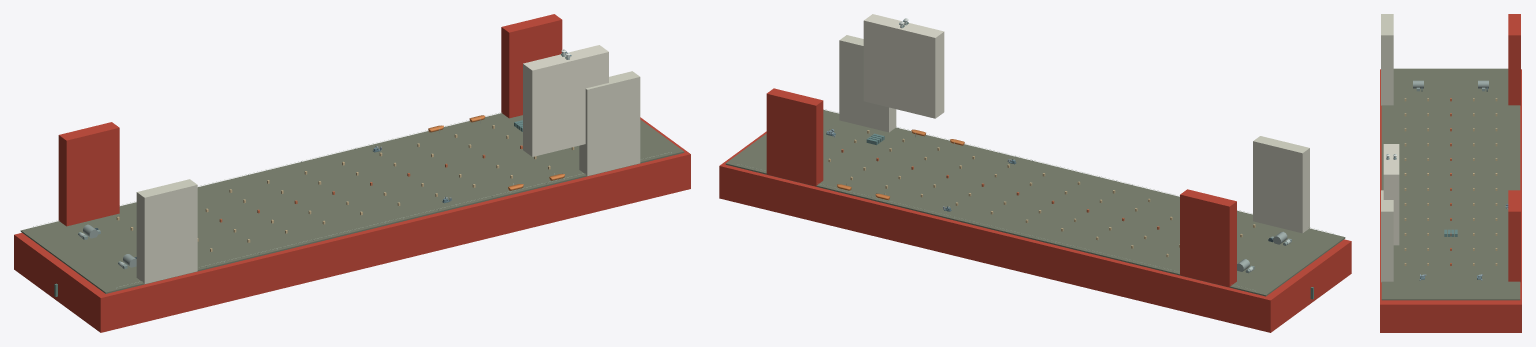
File: boka-vanguard.lod0.glb
The picture shows the model from 3 angles, left to right: view 1: azimuth 30°, elevation 25°; view 2: azimuth 150°, elevation 25°; view 3: azimuth 270°, elevation 25°; orthographic projection. The views are drawn at different scales.
Parts seen in each view (by area): view 1: boka-vanguard.structure.decks.main-strength-deck.1, boka-vanguard.structure.hull.submersible-transport-hull.1, boka-vanguard.accommodation.superstructure.offset-deckhouse., boka-vanguard.ballast.buoyancy-towers.buoyancy-tower-38-1.2, boka-vanguard.ballast.buoyancy-towers.buoyancy-tower-38-1.1, boka-vanguard.ballast.buoyancy-towers.buoyancy-tower-37-1.2, boka-vanguard.ballast.buoyancy-towers.buoyancy-tower-37-1.1; view 2: boka-vanguard.structure.decks.main-strength-deck.1, boka-vanguard.structure.hull.submersible-transport-hull.1, boka-vanguard.accommodation.superstructure.offset-deckhouse., boka-vanguard.ballast.buoyancy-towers.buoyancy-tower-37-1.1, boka-vanguard.ballast.buoyancy-towers.buoyancy-tower-38-1.1, boka-vanguard.ballast.buoyancy-towers.buoyancy-tower-38-1.2, boka-vanguard.ballast.buoyancy-towers.buoyancy-tower-37-1.2; view 3: boka-vanguard.structure.decks.main-strength-deck.1, boka-vanguard.structure.hull.submersible-transport-hull.1, boka-vanguard.accommodation.superstructure.offset-deckhouse., boka-vanguard.ballast.buoyancy-towers.buoyancy-tower-37-1.1, boka-vanguard.ballast.buoyancy-towers.buoyancy-tower-38-1.1, boka-vanguard.ballast.buoyancy-towers.buoyancy-tower-38-1.2, boka-vanguard.ballast.buoyancy-towers.buoyancy-tower-37-1.2.
Part boxes in pixels (x1,y1,x2,y2): boka-vanguard.structure.decks.main-strength-deck.1: (20, 113, 684, 293); boka-vanguard.structure.hull.submersible-transport-hull.1: (14, 117, 690, 332); boka-vanguard.accommodation.superstructure.offset-deckhouse.: (523, 45, 608, 156); boka-vanguard.ballast.buoyancy-towers.buoyancy-tower-38-1.2: (136, 179, 197, 284); boka-vanguard.ballast.buoyancy-towers.buoyancy-tower-38-1.1: (58, 122, 119, 226); boka-vanguard.ballast.buoyancy-towers.buoyancy-tower-37-1.2: (579, 71, 640, 176); boka-vanguard.ballast.buoyancy-towers.buoyancy-tower-37-1.1: (501, 14, 562, 118); boka-vanguard.structure.decks.main-strength-deck.1: (725, 110, 1345, 296); boka-vanguard.structure.hull.submersible-transport-hull.1: (719, 131, 1351, 332); boka-vanguard.accommodation.superstructure.offset-deckhouse.: (863, 14, 944, 118); boka-vanguard.ballast.buoyancy-towers.buoyancy-tower-37-1.1: (766, 88, 823, 186); boka-vanguard.ballast.buoyancy-towers.buoyancy-tower-38-1.1: (1180, 189, 1236, 287); boka-vanguard.ballast.buoyancy-towers.buoyancy-tower-38-1.2: (1253, 136, 1309, 233); boka-vanguard.ballast.buoyancy-towers.buoyancy-tower-37-1.2: (839, 35, 896, 132); boka-vanguard.structure.decks.main-strength-deck.1: (1381, 68, 1520, 300); boka-vanguard.structure.hull.submersible-transport-hull.1: (1380, 69, 1521, 332); boka-vanguard.accommodation.superstructure.offset-deckhouse.: (1383, 144, 1399, 245); boka-vanguard.ballast.buoyancy-towers.buoyancy-tower-37-1.1: (1508, 190, 1520, 282); boka-vanguard.ballast.buoyancy-towers.buoyancy-tower-38-1.1: (1508, 14, 1520, 105); boka-vanguard.ballast.buoyancy-towers.buoyancy-tower-38-1.2: (1381, 14, 1393, 105); boka-vanguard.ballast.buoyancy-towers.buoyancy-tower-37-1.2: (1381, 190, 1393, 282).
Size of the model in its own units: 276 by 71.88 by 70.
